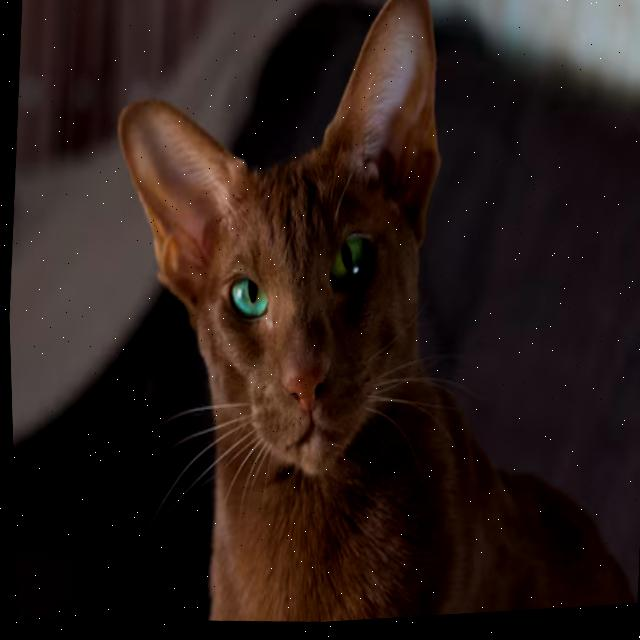Oriental: (77, 0, 640, 636)
